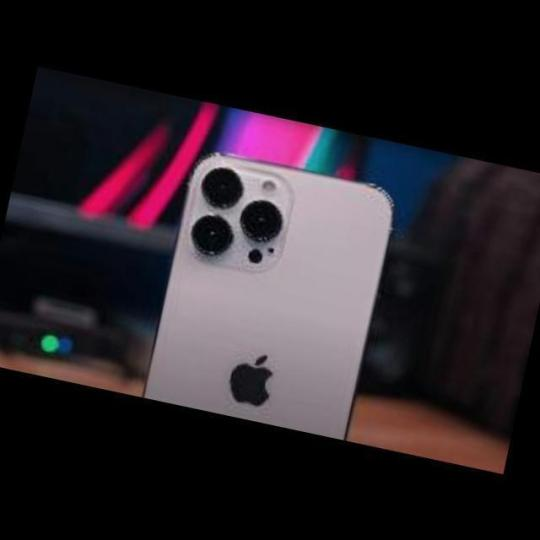phone: (136, 141, 401, 445)
